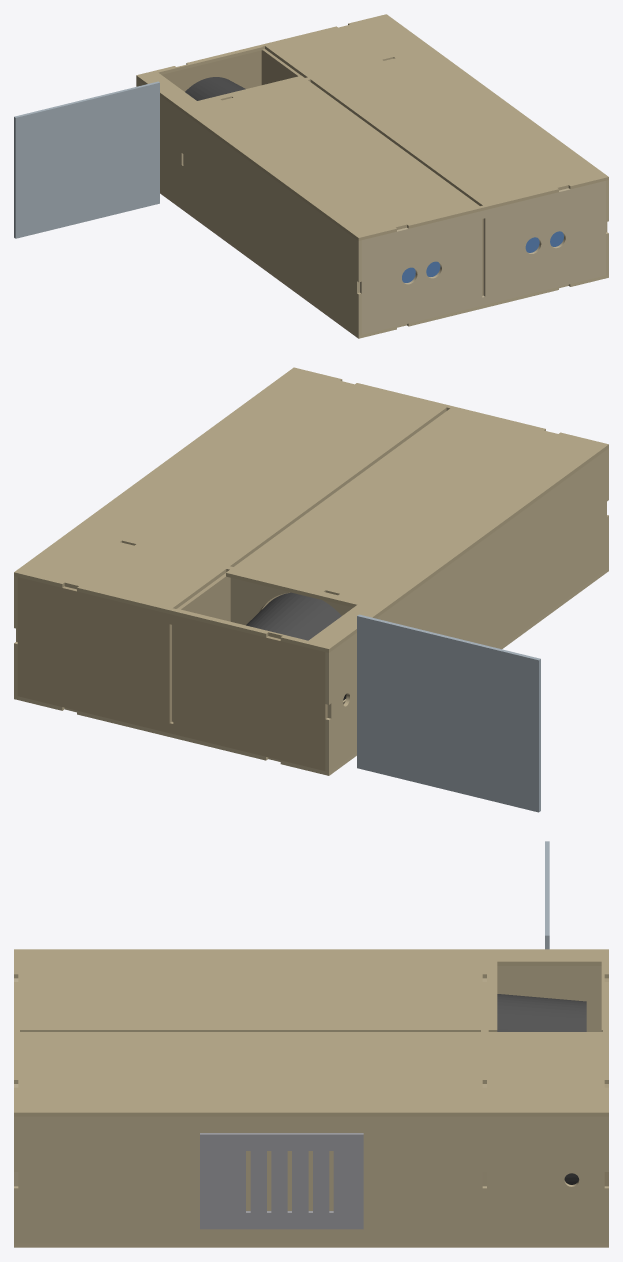
Rendered from montagem_estrutura_40cm.glb.
3 renders of one model, top to bottom at view 1: azimuth 30°, elevation 25°; view 2: azimuth 150°, elevation 25°; view 3: azimuth 270°, elevation 25°, orthographic. The views are drawn at different scales.
Parts seen in each view (by area): view 1: traseira, tampa, lateral_esq, prat_reservatorio, base, frente, divisoria, vaso_1; view 2: traseira, base, prat_reservatorio, lateral_esq, vaso_1, frente, prateleira, divisoria; view 3: traseira, lateral_dir, painel_eletronic, lateral_esq, vaso_1, frente, prat_reservatorio.
Boxes of the visible parts, x1,y1,x2,y2 form: traseira: (136, 14, 608, 240); tampa: (360, 181, 605, 334); lateral_esq: (136, 78, 361, 335); prat_reservatorio: (14, 81, 159, 238); base: (161, 50, 261, 91); frente: (160, 190, 608, 338); divisoria: (261, 49, 483, 295); vaso_1: (185, 77, 245, 100); traseira: (14, 367, 608, 652); base: (17, 577, 327, 770); prat_reservatorio: (357, 614, 540, 812); lateral_esq: (325, 448, 608, 771); vaso_1: (246, 592, 346, 700); frente: (14, 567, 608, 775); prateleira: (230, 578, 352, 704); divisoria: (172, 573, 289, 721); traseira: (14, 949, 608, 1116); lateral_dir: (14, 1116, 608, 1243); painel_eletronic: (200, 1133, 363, 1229); lateral_esq: (497, 966, 601, 1031); vaso_1: (497, 994, 586, 1031); frente: (14, 1243, 608, 1247); prat_reservatorio: (545, 841, 549, 949).
Bounding box in the file's own units: 413 × 120 × 400.
